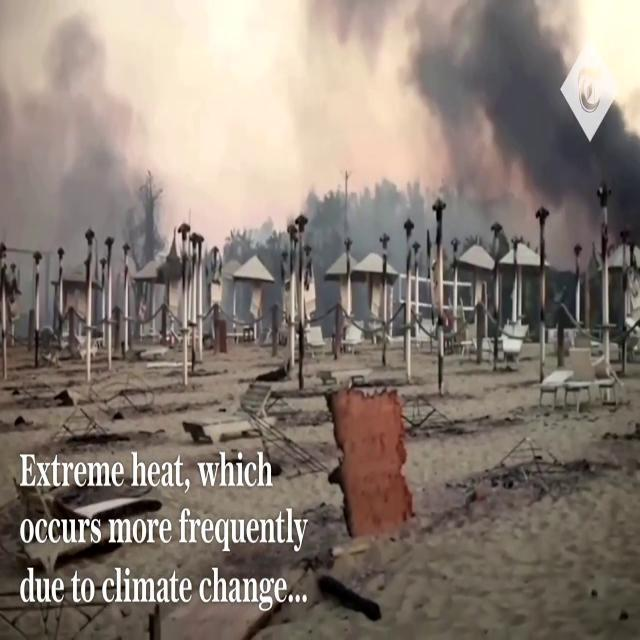Smoke: (284, 0, 594, 209), (0, 0, 169, 292)
